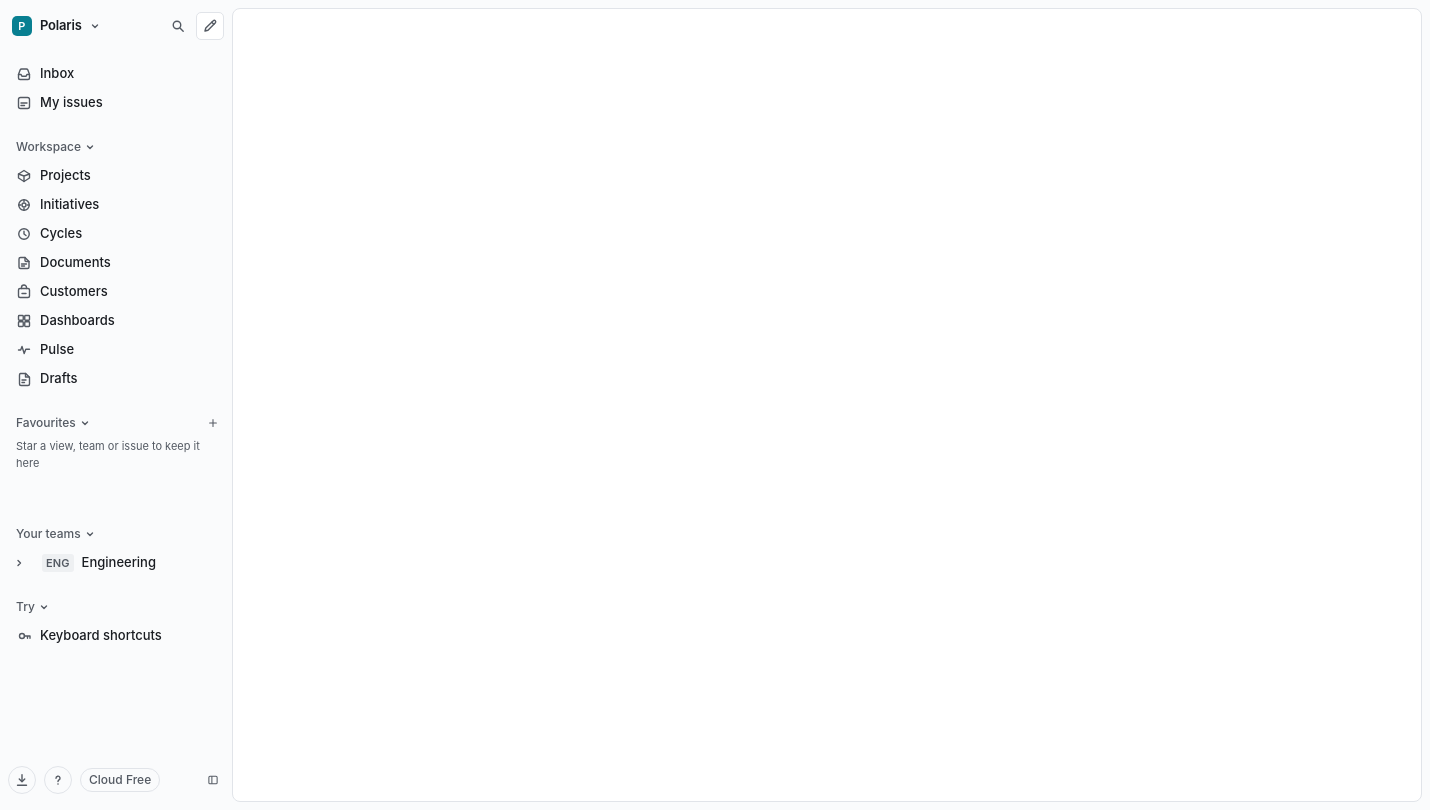
Scenario: the surfaces above the shell › says which kind of nothing the command menu found
Type keys "{Control>}k{/Control}"
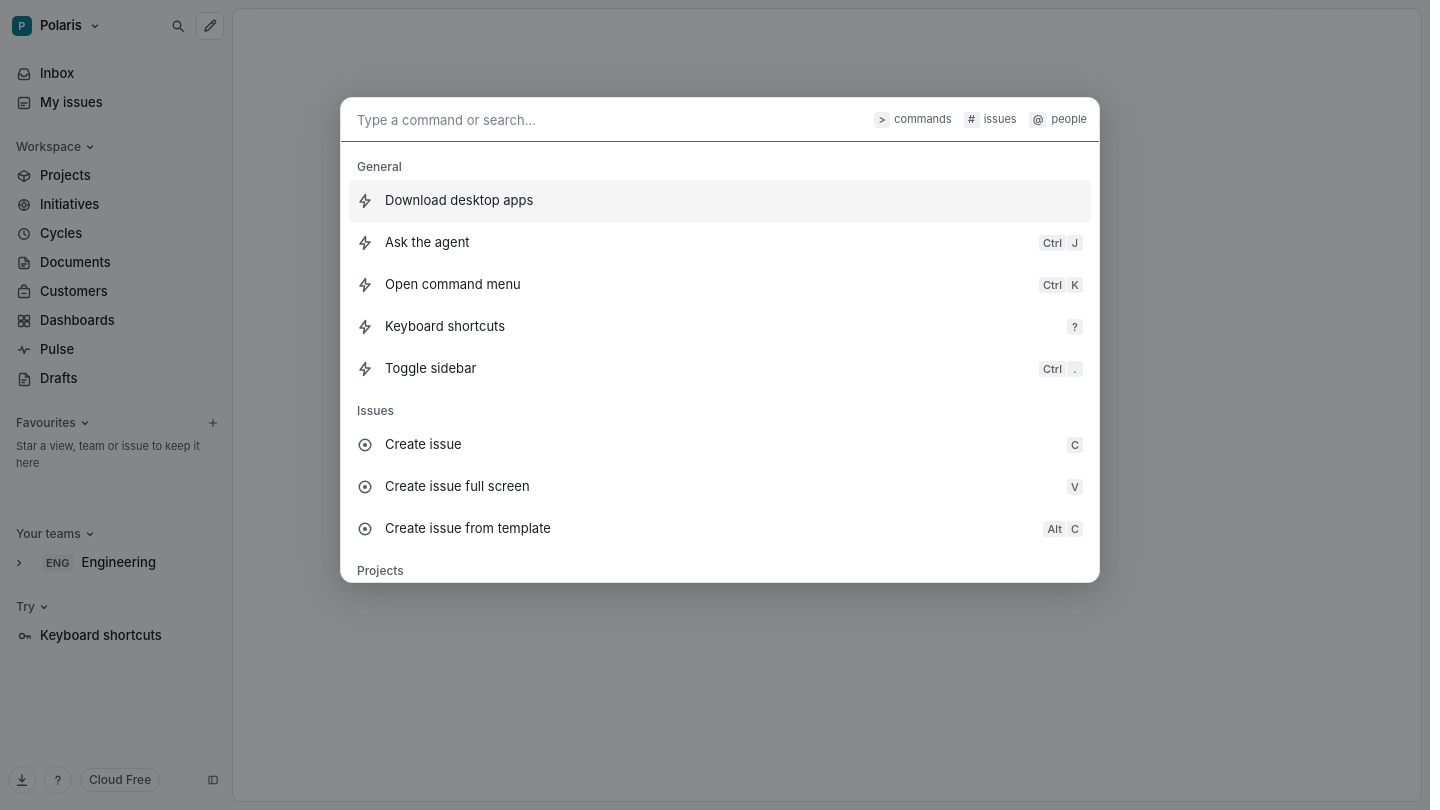
Type keys "#zzz"
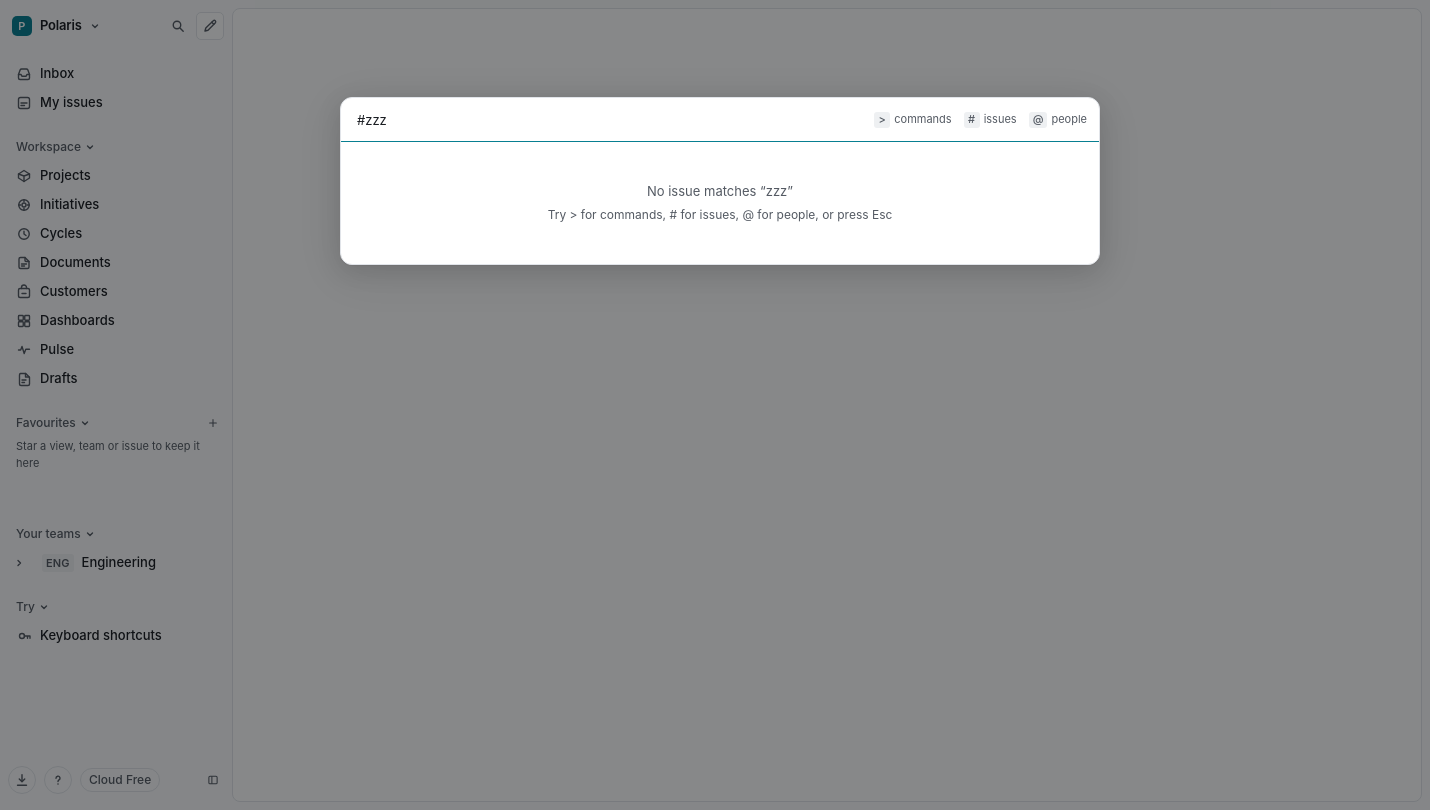
Now the text "No issue matches “zzz”" is shown, box [647, 182, 793, 202]
Clear the dropdown named "Search commands" at x=610, y=120, box [357, 98, 862, 141]
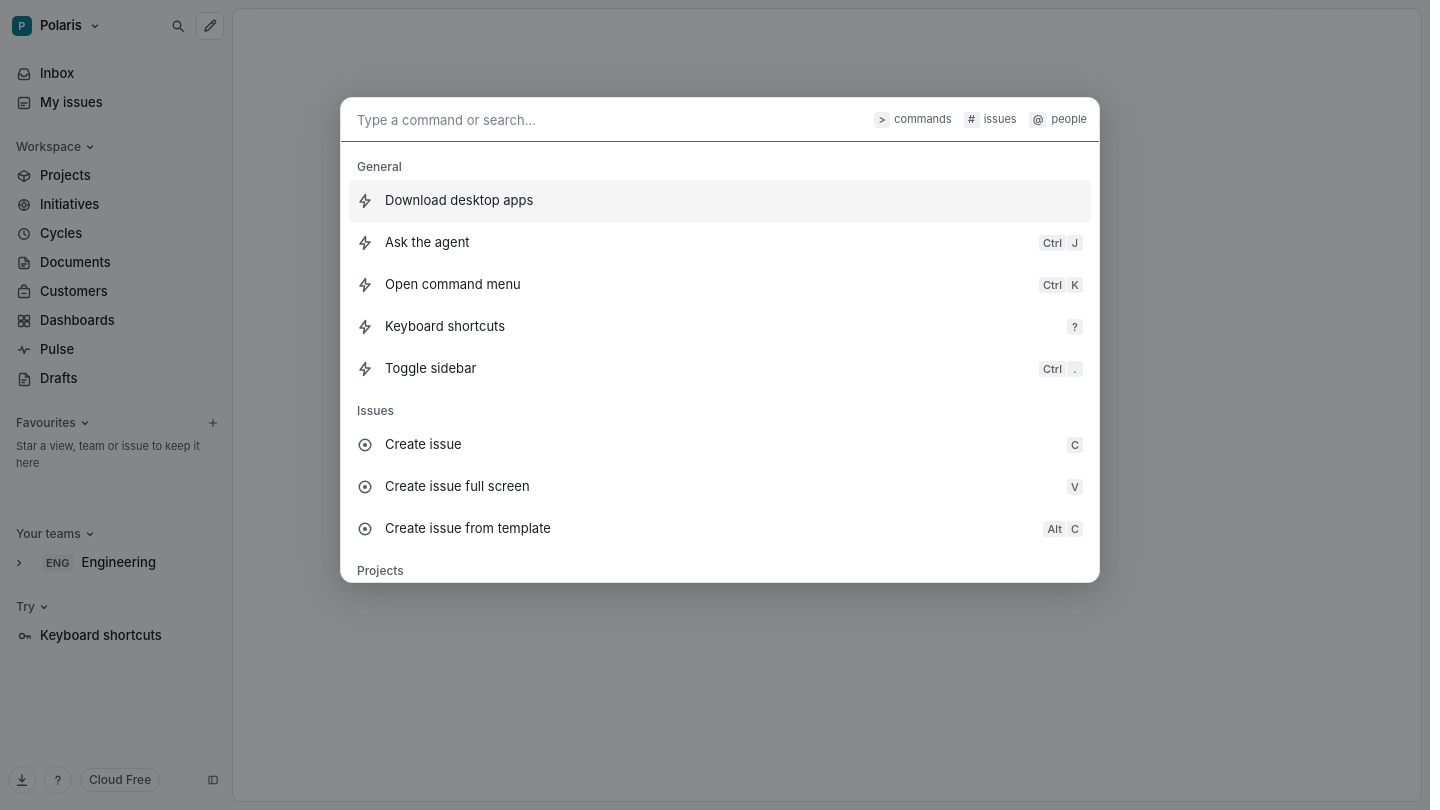
Type keys "@zzz"
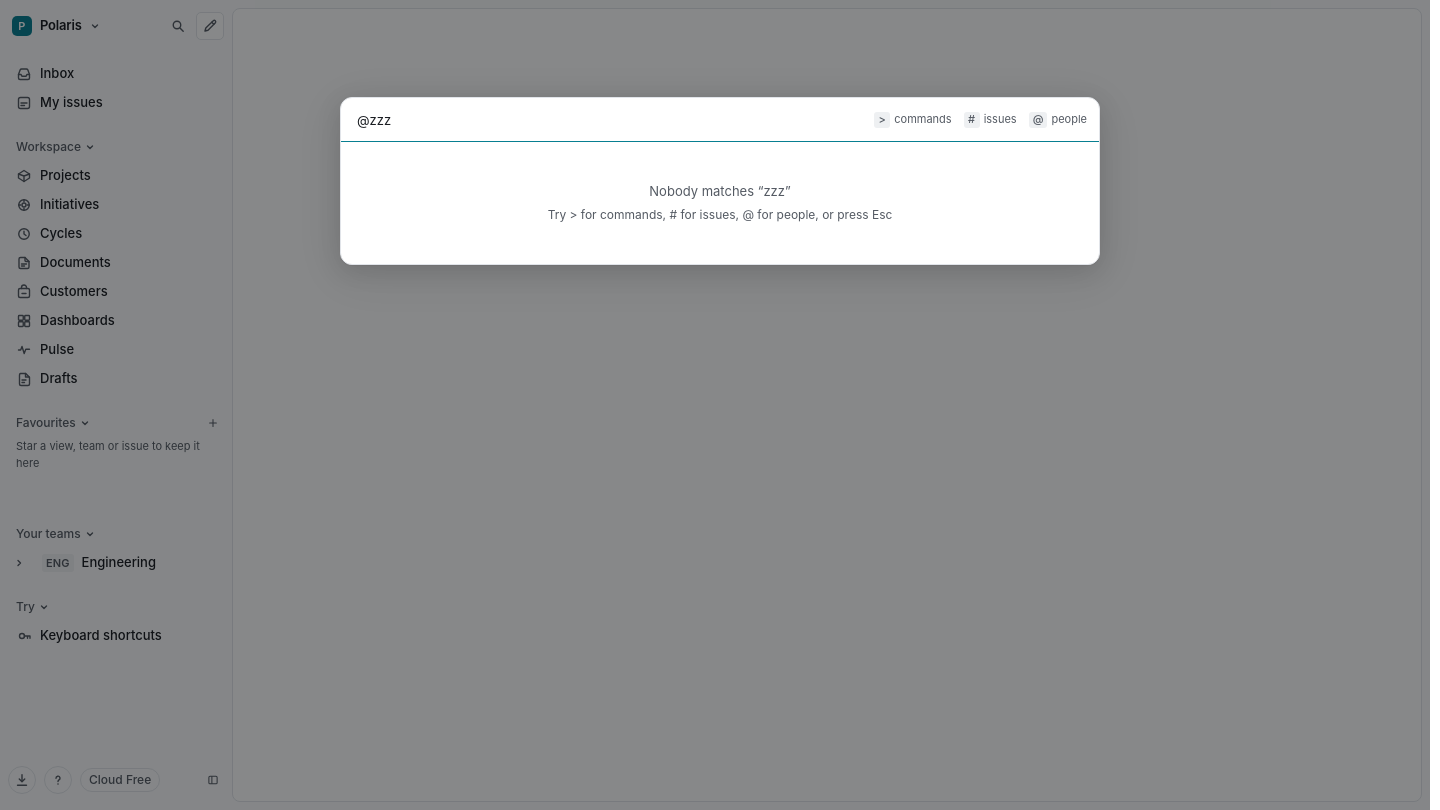
Now the text "Nobody matches “zzz”" is shown, box [649, 182, 791, 202]
